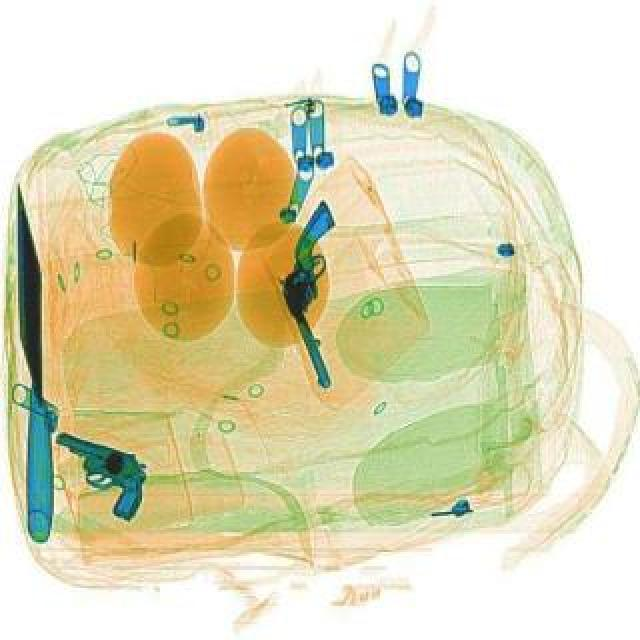gun: (256, 198, 380, 388), (34, 428, 156, 520)
knife: (12, 180, 54, 538)
